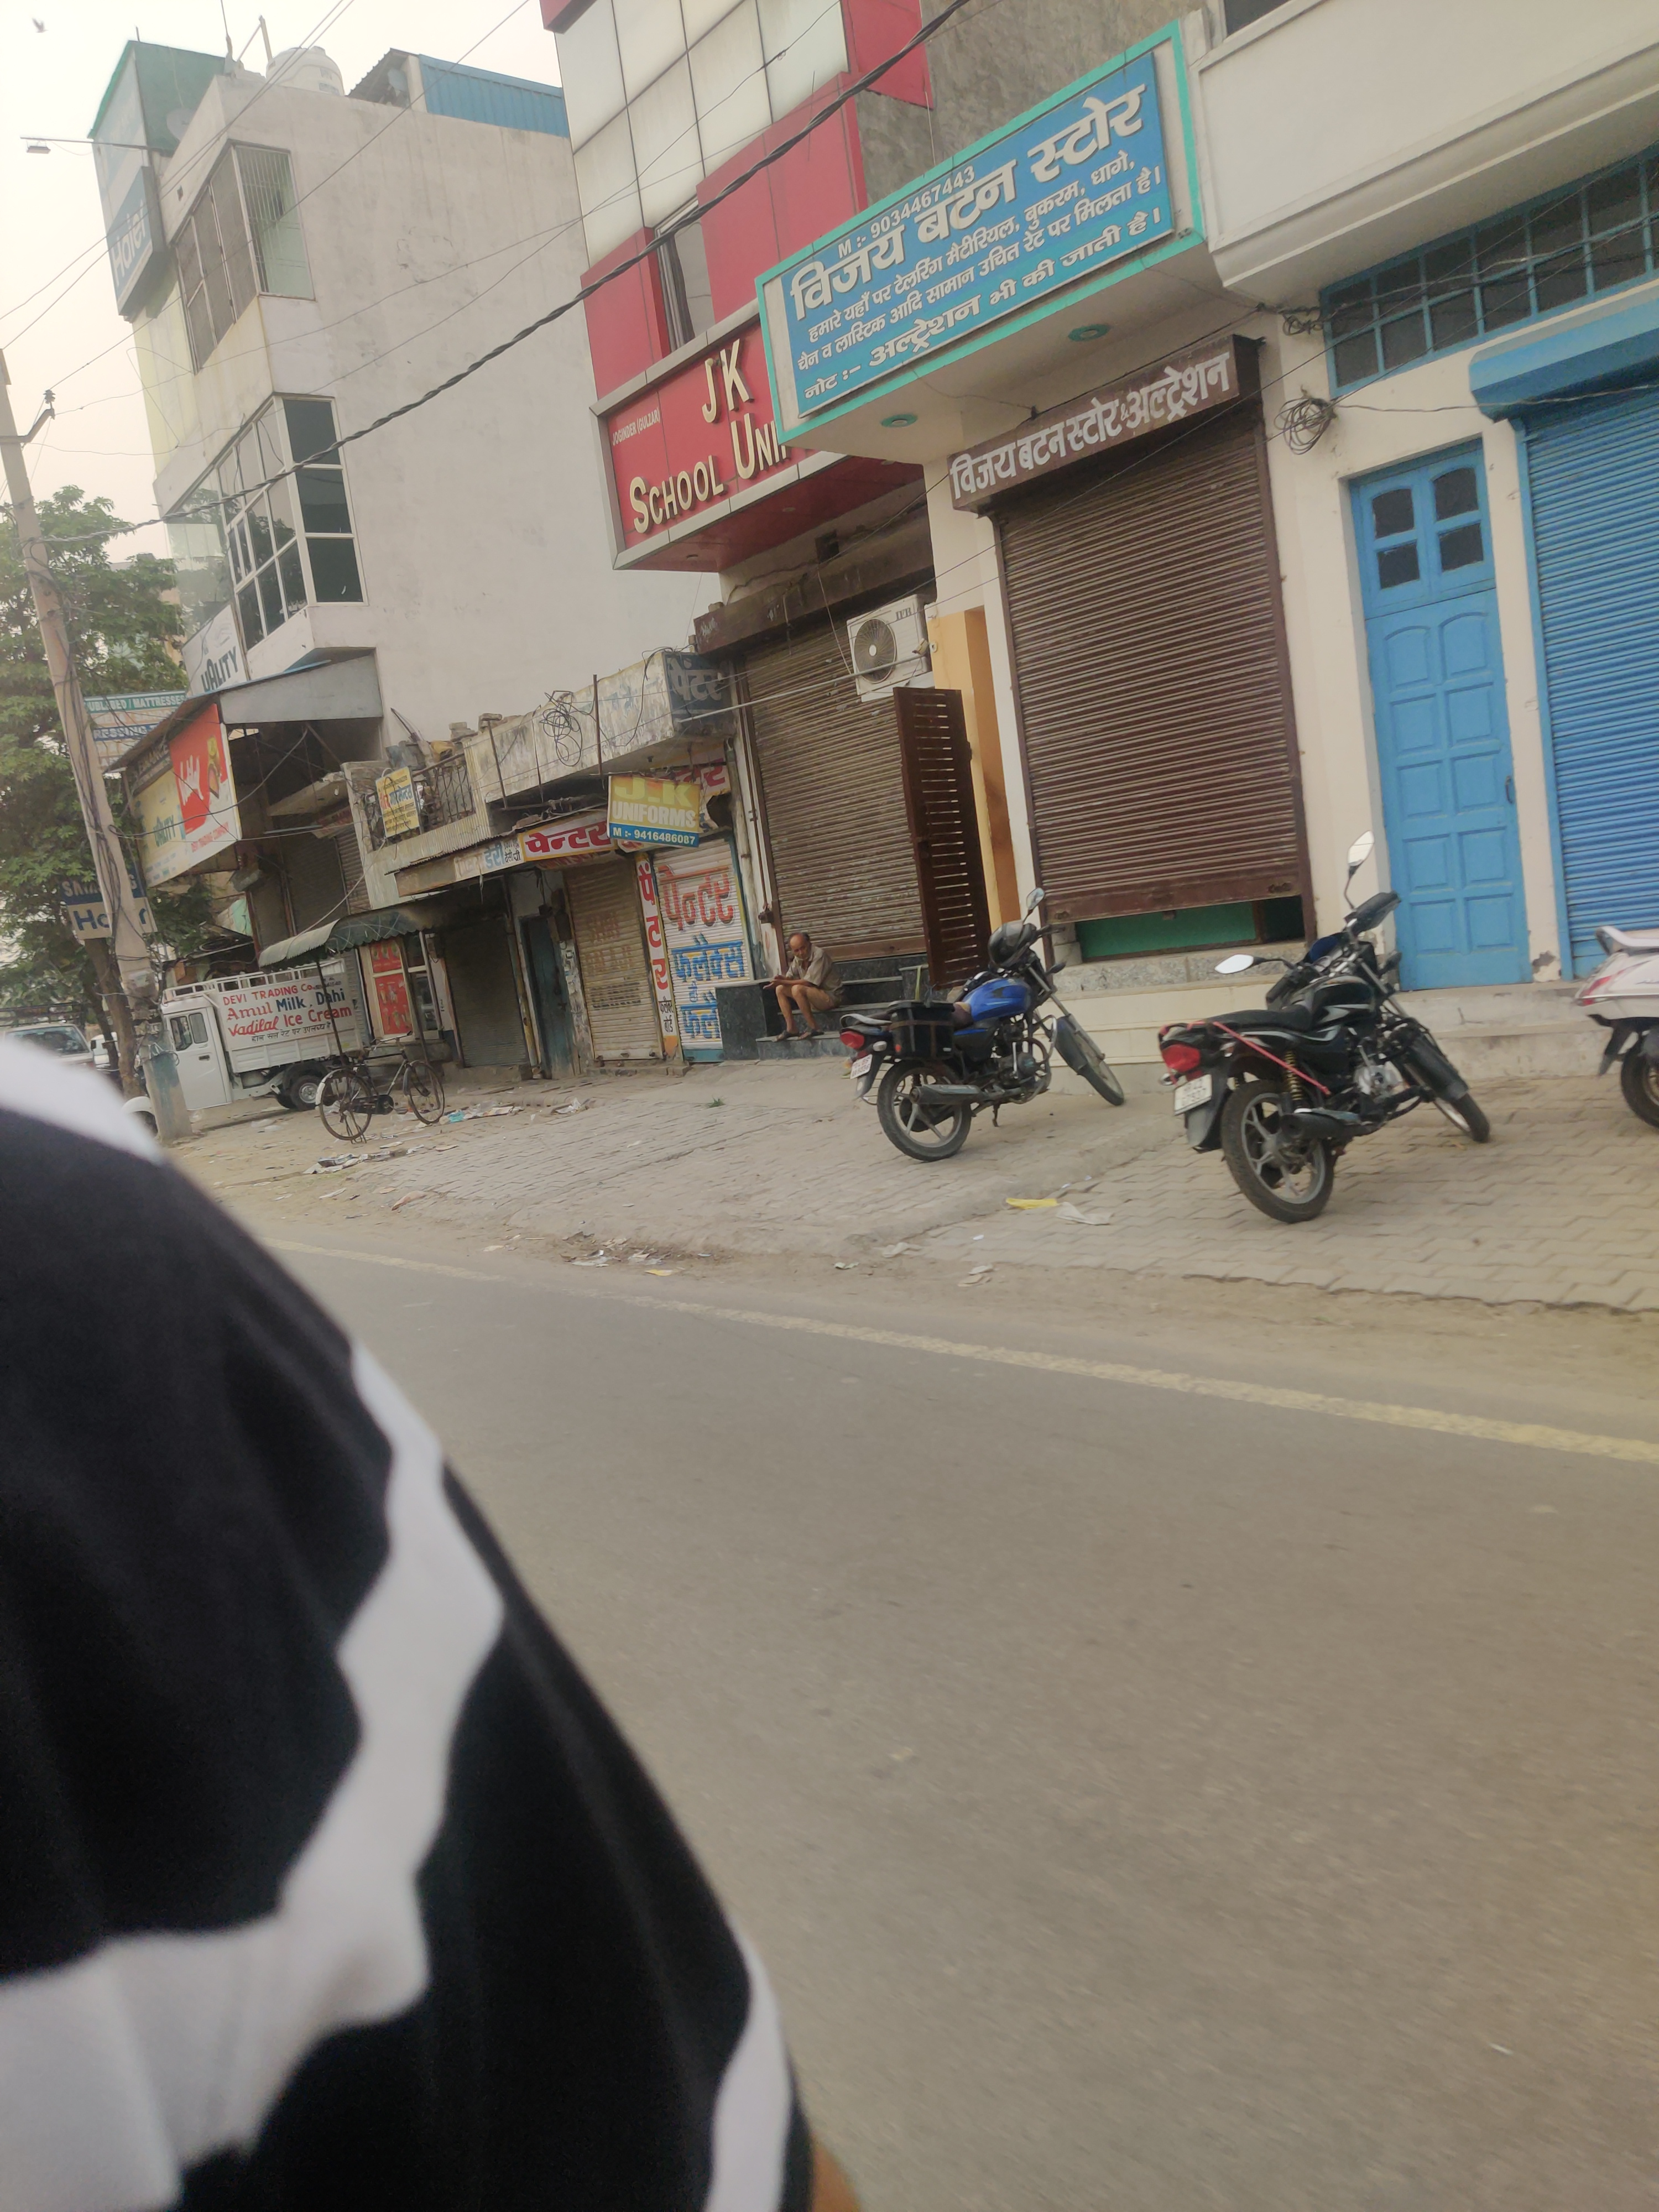text: (751, 136, 1208, 336), (781, 279, 1133, 420), (592, 300, 798, 540), (631, 834, 779, 1062), (931, 387, 1262, 472), (105, 735, 239, 895), (216, 970, 359, 1073), (511, 796, 626, 860), (606, 773, 708, 846), (87, 691, 193, 758), (61, 866, 155, 939), (179, 604, 246, 697), (371, 768, 423, 838), (448, 838, 521, 876)
